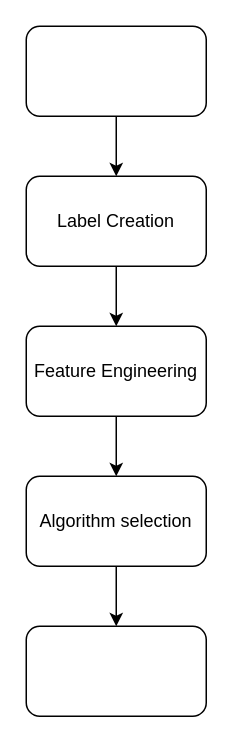
Some shapes in this 233 by 743 pixel diagram are drawn without their labels. The shapes that lost their labels are listed below. From the top down, each one's box as (x1, y1, x2, y2) in pixels, then its label:
(25, 25, 206, 116): Data collection
(25, 625, 206, 716): Performance Evluation
